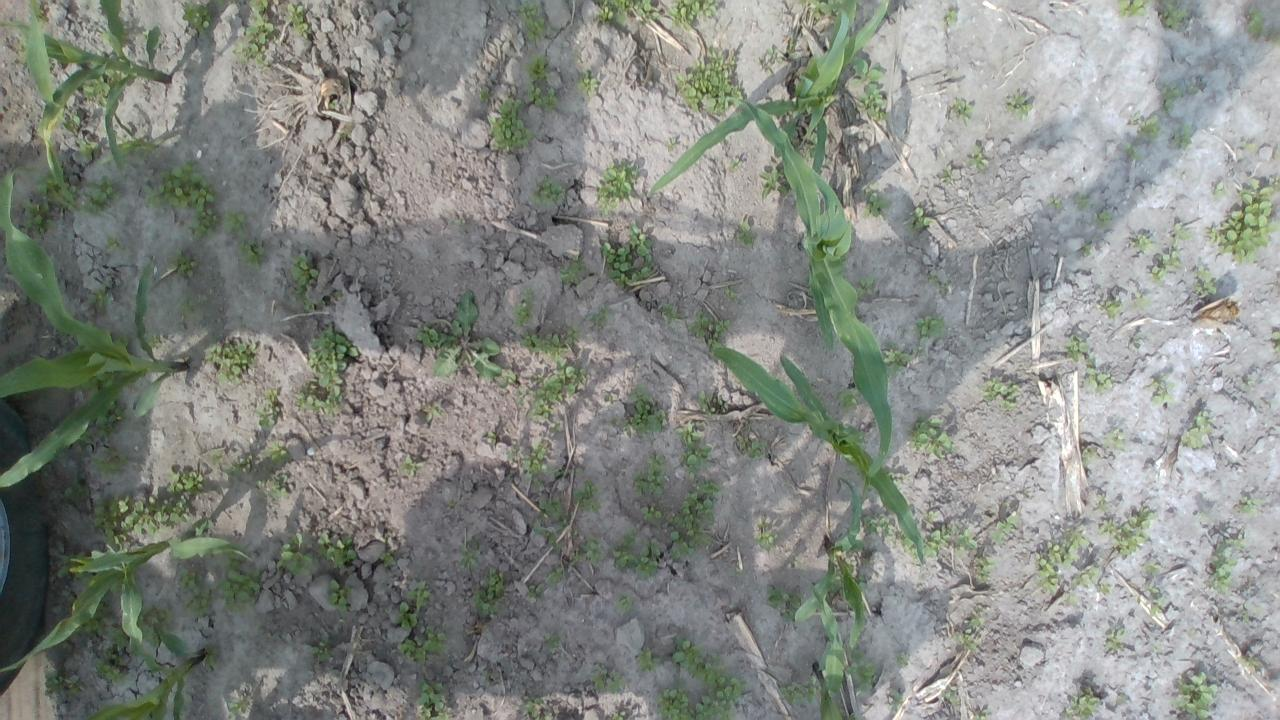Maize: (726, 95, 896, 487), (0, 167, 189, 494), (711, 340, 926, 562), (649, 0, 889, 197), (0, 524, 255, 674), (7, 0, 175, 206), (792, 473, 871, 657), (86, 625, 204, 720), (808, 659, 844, 720)
Weeds: (416, 288, 506, 382), (1206, 176, 1280, 264), (141, 164, 220, 241), (93, 493, 189, 551), (516, 366, 590, 434), (674, 47, 744, 116), (670, 481, 720, 560), (306, 322, 359, 388), (602, 222, 654, 288), (1098, 506, 1156, 557), (204, 338, 258, 388), (488, 94, 534, 152), (235, 0, 274, 67), (619, 384, 669, 435), (612, 526, 660, 578), (218, 554, 262, 610), (520, 327, 580, 368), (672, 638, 728, 680), (696, 676, 748, 720), (286, 252, 324, 312), (596, 163, 640, 214), (1172, 672, 1218, 720), (520, 445, 568, 490), (95, 628, 130, 686), (1209, 536, 1245, 592), (594, 0, 660, 30), (392, 580, 431, 630), (276, 532, 316, 578), (398, 626, 446, 664), (32, 173, 80, 211), (912, 415, 954, 458), (82, 176, 126, 217), (296, 382, 344, 418), (842, 644, 876, 694), (470, 566, 504, 616), (82, 68, 125, 106), (176, 566, 208, 616), (51, 544, 92, 583), (669, 0, 720, 31), (318, 530, 358, 568), (20, 198, 60, 236), (980, 376, 1024, 410), (633, 451, 666, 496), (954, 606, 986, 651), (96, 398, 130, 440), (656, 683, 694, 720), (1034, 543, 1062, 593), (766, 584, 802, 621), (1180, 410, 1214, 448), (78, 596, 112, 634), (416, 680, 448, 720), (847, 52, 884, 86), (91, 444, 130, 476), (687, 310, 731, 338), (517, 2, 547, 43), (776, 674, 818, 703), (165, 466, 204, 497), (256, 386, 282, 428), (682, 445, 713, 480), (879, 342, 910, 377), (574, 528, 604, 564), (325, 579, 354, 615), (860, 84, 889, 120), (512, 288, 538, 328), (861, 182, 889, 219), (573, 478, 601, 515), (42, 669, 79, 696), (1063, 693, 1100, 720), (182, 0, 212, 33), (537, 496, 568, 527), (532, 179, 564, 209), (1150, 250, 1180, 282), (1062, 527, 1087, 565), (1160, 0, 1190, 31), (760, 167, 790, 198), (590, 668, 626, 693), (992, 514, 1020, 546), (1190, 264, 1218, 296), (142, 606, 175, 633), (286, 3, 310, 40), (256, 474, 290, 500), (921, 528, 950, 558), (238, 239, 266, 270), (526, 83, 558, 110), (637, 646, 667, 674), (558, 255, 590, 281), (860, 516, 894, 540), (751, 520, 778, 550), (907, 206, 934, 235), (170, 248, 196, 278), (836, 386, 862, 416), (674, 421, 702, 448), (1082, 368, 1112, 393), (916, 315, 946, 340), (119, 138, 158, 157), (1004, 94, 1032, 120), (534, 526, 562, 552), (1064, 334, 1090, 362), (224, 456, 254, 480), (520, 698, 552, 720), (1135, 112, 1162, 138), (524, 52, 546, 82), (1148, 377, 1172, 404), (222, 209, 246, 236), (1070, 567, 1098, 590), (804, 0, 841, 17), (966, 144, 990, 170), (1236, 495, 1264, 517), (1145, 584, 1164, 616), (1168, 223, 1192, 248), (75, 138, 101, 161), (264, 441, 290, 464), (975, 556, 996, 584), (460, 540, 480, 569), (1162, 82, 1182, 111), (312, 638, 336, 662), (58, 112, 82, 136), (577, 71, 600, 96), (1246, 7, 1266, 35), (949, 98, 972, 122), (228, 696, 250, 720), (27, 0, 48, 25), (1104, 626, 1124, 652), (1118, 0, 1148, 17), (928, 274, 951, 296), (1104, 427, 1126, 449), (1102, 296, 1124, 318), (190, 516, 213, 537), (958, 527, 977, 552), (73, 426, 92, 451), (887, 688, 906, 712), (736, 222, 755, 246), (1172, 124, 1192, 146), (400, 455, 422, 475), (542, 633, 562, 654), (856, 276, 876, 296), (639, 504, 661, 522), (745, 440, 767, 458), (64, 480, 84, 499), (104, 234, 124, 253), (144, 334, 165, 352), (766, 45, 784, 66), (614, 592, 634, 610), (424, 400, 442, 420), (177, 300, 196, 318), (662, 303, 682, 320), (380, 548, 398, 566), (1133, 233, 1152, 250), (1142, 562, 1163, 576), (1134, 290, 1151, 307), (901, 537, 917, 555), (594, 305, 610, 322), (95, 287, 112, 303), (1082, 446, 1097, 464), (208, 446, 223, 464), (1096, 209, 1114, 224), (974, 704, 990, 720), (1240, 138, 1258, 152), (944, 686, 958, 704), (114, 335, 132, 349), (1125, 142, 1139, 160), (944, 8, 958, 26), (120, 22, 130, 46), (807, 133, 817, 157), (548, 567, 562, 584), (1046, 197, 1064, 210), (830, 576, 844, 592), (526, 584, 540, 600), (1271, 329, 1280, 353), (504, 370, 518, 385), (1062, 591, 1078, 604), (724, 287, 737, 303), (1096, 494, 1108, 511), (856, 575, 867, 593), (896, 652, 910, 666), (336, 128, 352, 140), (206, 654, 217, 671), (665, 138, 678, 152), (1076, 194, 1088, 209), (698, 390, 708, 407), (328, 98, 340, 112), (728, 159, 743, 170), (142, 26, 151, 44), (478, 86, 488, 101), (612, 710, 626, 720), (825, 94, 835, 108), (924, 511, 939, 520), (1100, 583, 1112, 594), (487, 431, 496, 445), (100, 30, 110, 42), (1083, 243, 1092, 256), (213, 0, 225, 9), (1242, 611, 1250, 623), (786, 45, 794, 57), (333, 291, 342, 301), (943, 168, 950, 180), (1198, 512, 1208, 520), (707, 338, 718, 345), (606, 395, 616, 402)
